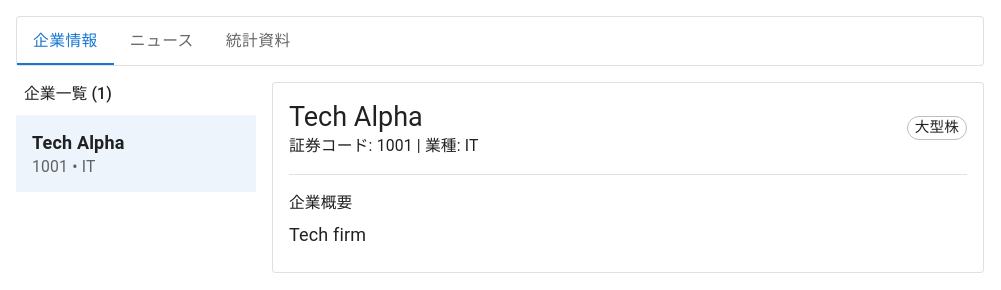
ResearchDeskPage › renders only available tabs and allows tab switching
Check: the tab "企業情報" is shown, box [17,17,114,65]
Check: the tab "統計資料" is shown, box [210,17,307,65]
// Switch to News tab
Click the tab "ニュース": [162, 41] box [114,17,210,65]
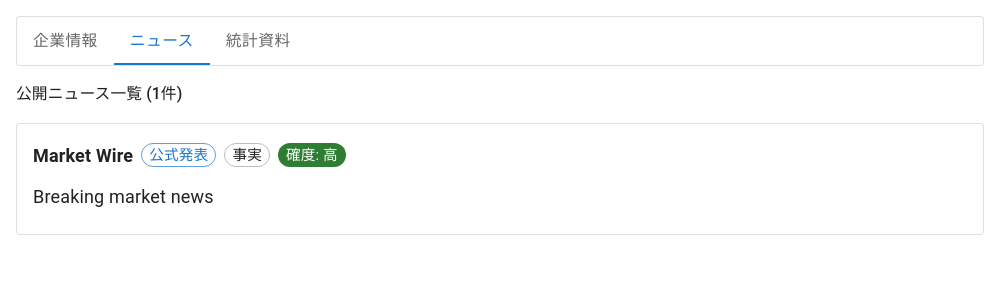
Check: the text "Breaking market news" is shown, box [33,186,214,207]
